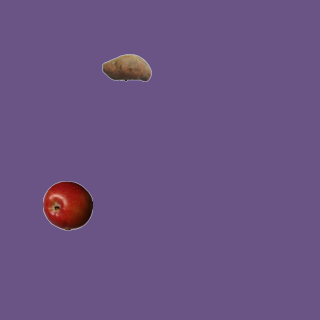Apple Braeburn: (42, 180, 92, 230)
Potato Sweet: (101, 42, 151, 92)
